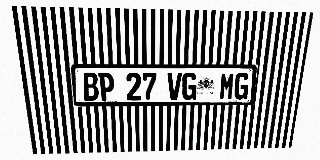2: (126, 72, 141, 100)
7: (142, 72, 157, 100)
B: (82, 72, 99, 101)
G: (233, 73, 250, 100), (182, 73, 197, 100)
M: (219, 73, 235, 100)
P: (98, 72, 115, 101)
V: (167, 73, 182, 100)
